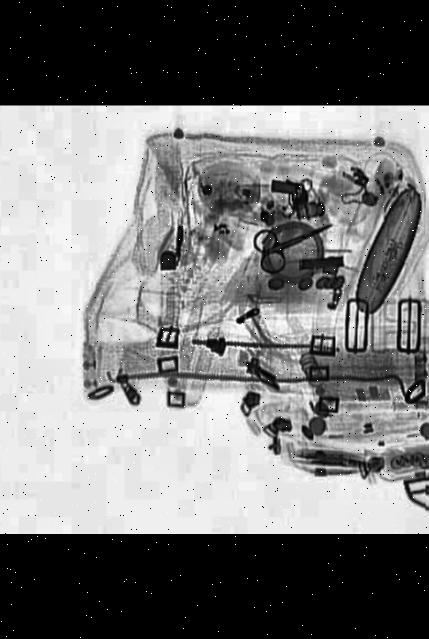Scissors: (242, 213, 346, 276)
